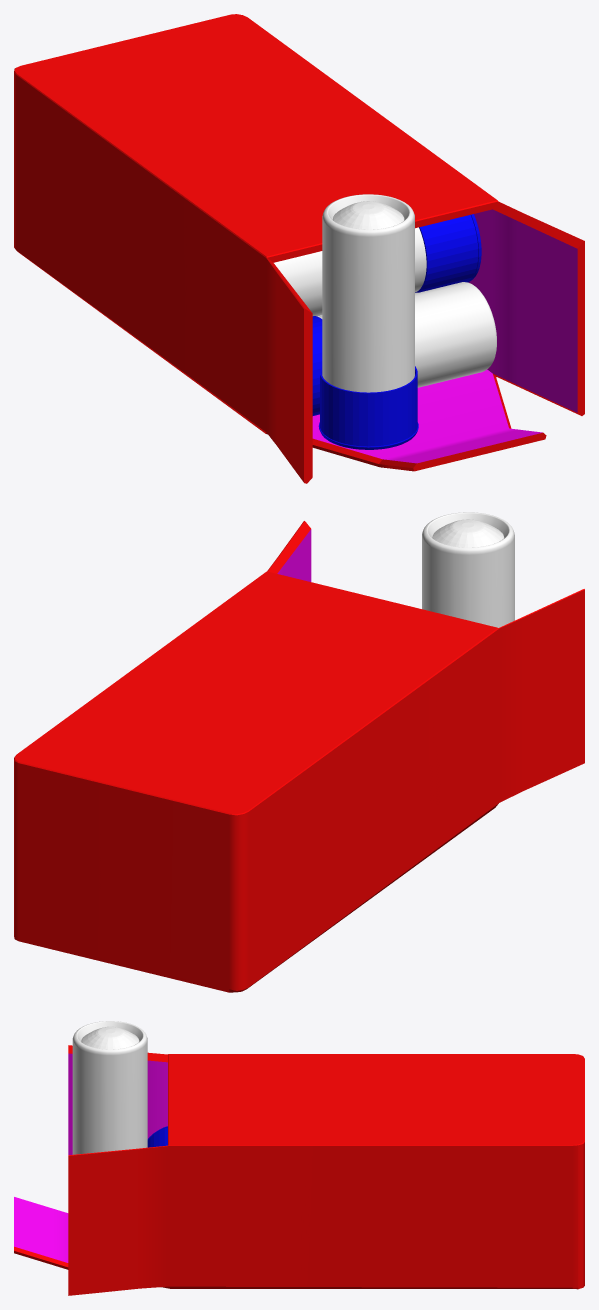
Rendered from Shotgun_ammo_01.fbx.
3 renders of one model, top to bottom at view 1: azimuth 30°, elevation 25°; view 2: azimuth 150°, elevation 25°; view 3: azimuth 270°, elevation 25°, orthographic. The views are drawn at different scales.
Parts seen in each view (by area): view 1: Ammo_Shotgun_Box, Shell (×3), Primer (×3), Slug; view 2: Ammo_Shotgun_Box, Shell, Slug; view 3: Ammo_Shotgun_Box, Shell, Slug.
Part boxes in pixels (x1,y1,x2,y2): Ammo_Shotgun_Box: (14, 14, 584, 483); Shell (×3): (274, 194, 496, 392); Primer (×3): (312, 214, 481, 449); Slug: (332, 201, 404, 229); Ammo_Shotgun_Box: (14, 521, 584, 992); Shell: (422, 512, 514, 627); Slug: (432, 519, 504, 547); Ammo_Shotgun_Box: (14, 1045, 584, 1295); Shell: (72, 1021, 147, 1154); Slug: (81, 1026, 139, 1049).
Bounding box in the file's own units: 1.43 × 1.16 × 3.11.
